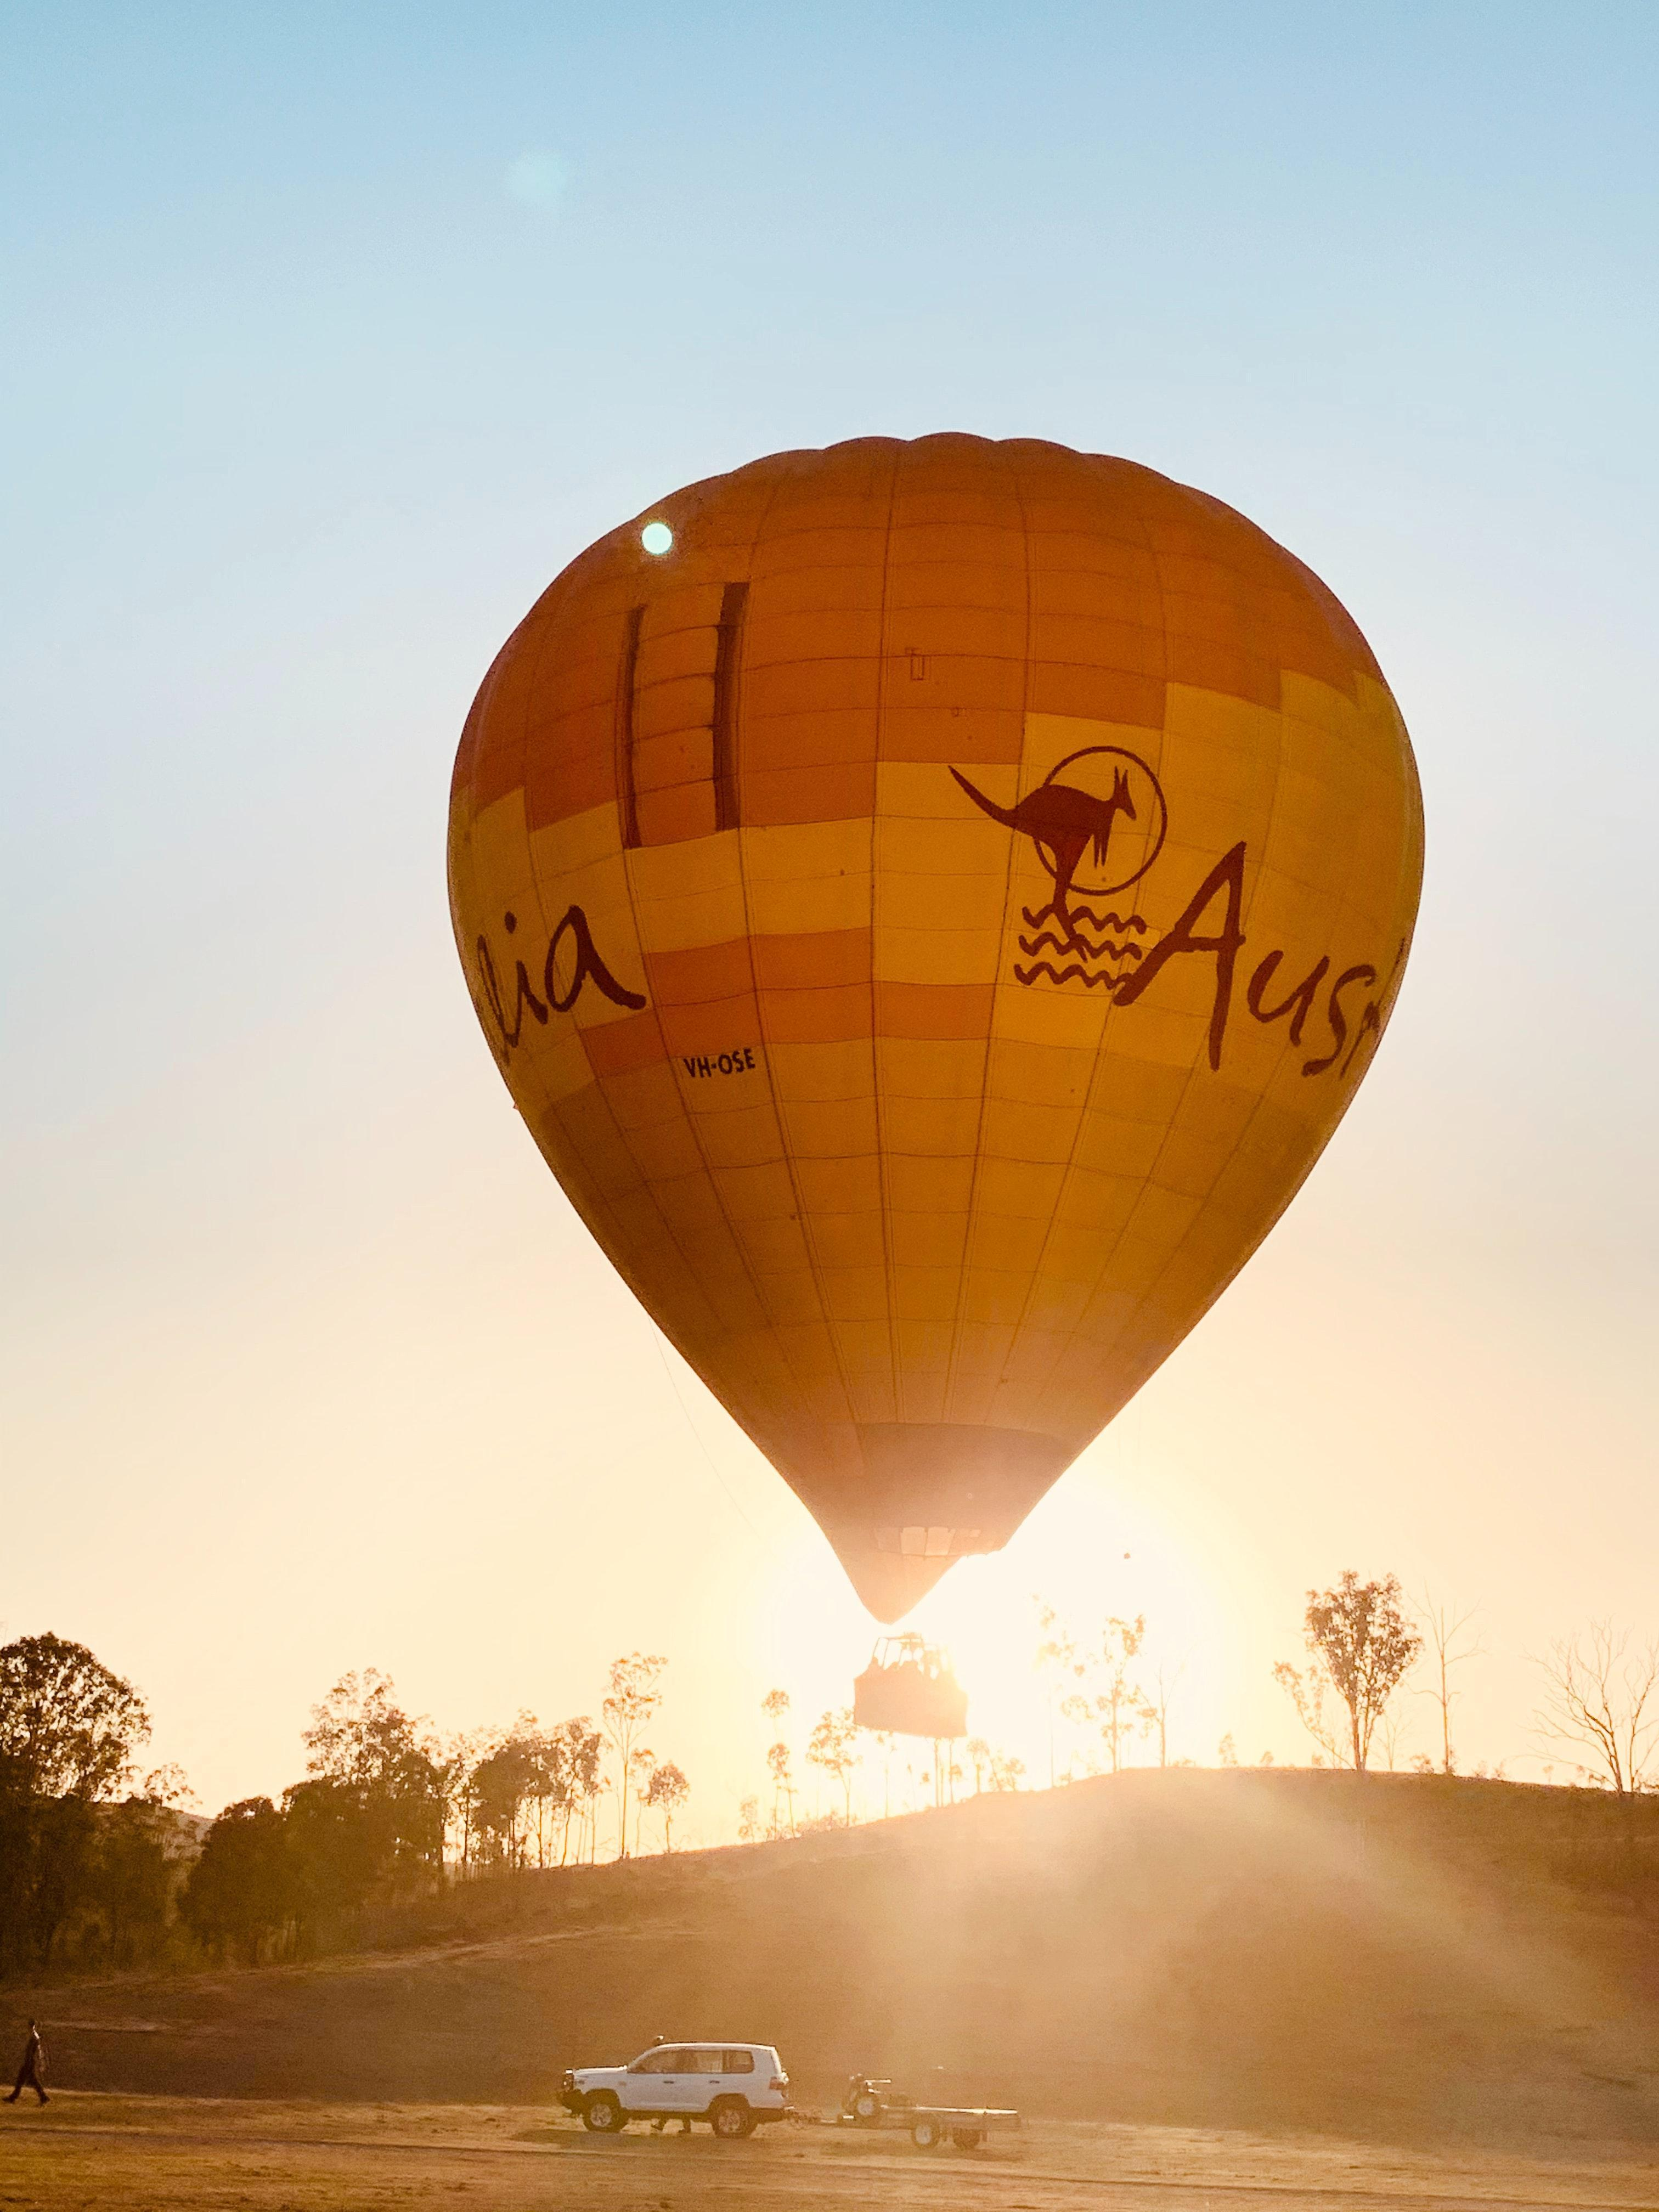hot air ballon: (441, 428, 1429, 1743)
